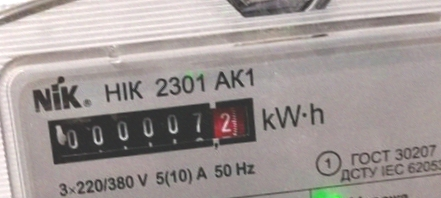0: (64, 125, 80, 150), (115, 118, 131, 142), (140, 114, 156, 138), (90, 122, 105, 146), (165, 111, 180, 135)
2: (218, 110, 233, 134)
7: (191, 108, 205, 133)
screen: (36, 85, 268, 174)
